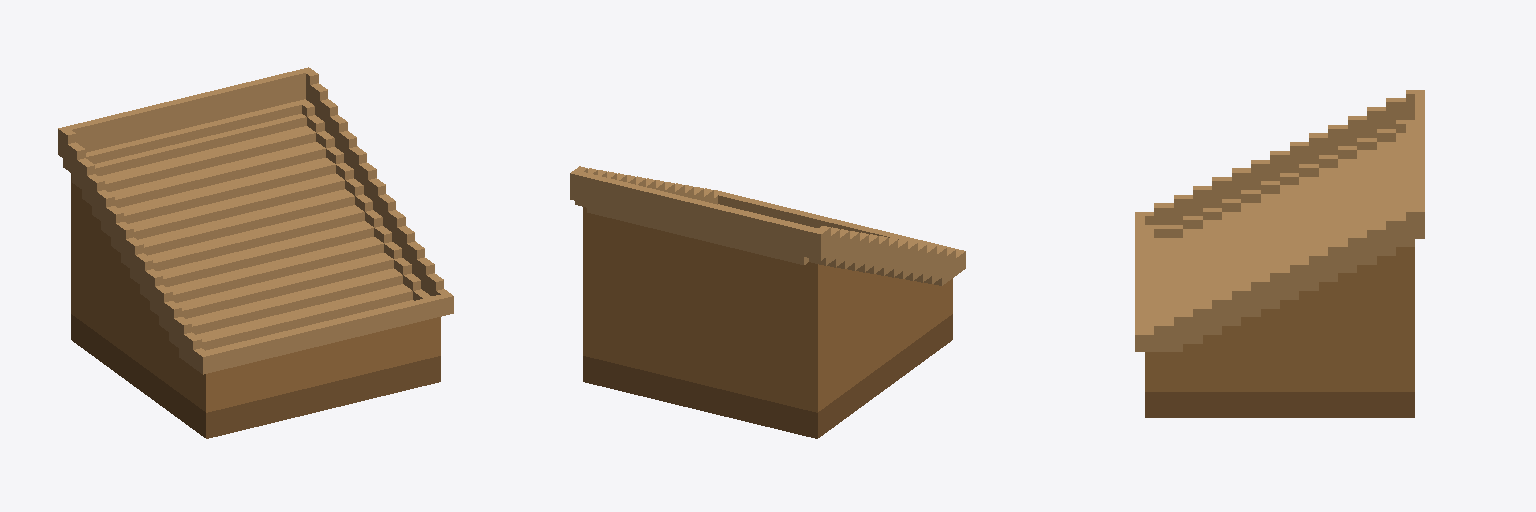
The picture shows the model from 3 angles: view 1: azimuth 30°, elevation 25°; view 2: azimuth 150°, elevation 25°; view 3: azimuth 270°, elevation 25°; orthographic projection.
Parts seen in each view (by area): view 1: object 1; view 2: object 1; view 3: object 1.
Boxes of the visible parts, x1,y1,x2,y2 form: object 1: [58, 67, 453, 438]; object 1: [570, 166, 965, 438]; object 1: [1135, 90, 1424, 417].
Size of the model in its own units: 3 by 2.4 by 3.
Materials: 1 (1 with a texture image).